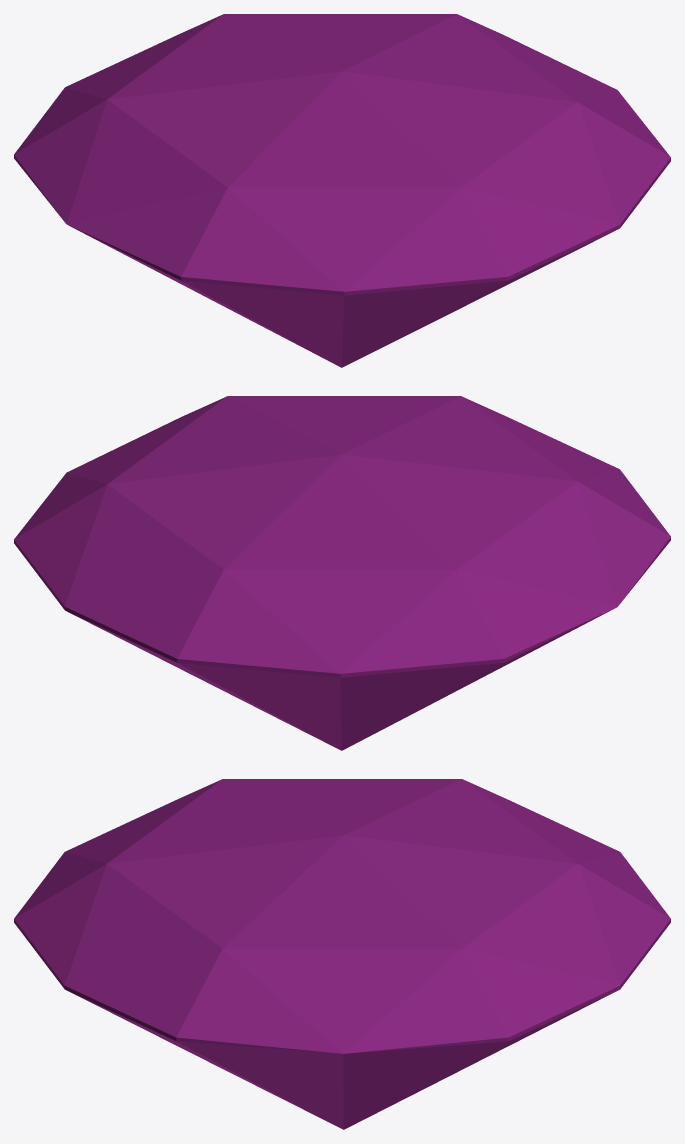
The model's file is Gem008.fbx.
The picture shows the model from 3 angles, top to bottom: view 1: azimuth 30°, elevation 25°; view 2: azimuth 150°, elevation 25°; view 3: azimuth 270°, elevation 25°; orthographic projection.
Visible parts, largest first — view 1: Gem008; view 2: Gem008; view 3: Gem008.
Part boxes in pixels (x1,y1,x2,y2): Gem008: [14, 14, 670, 367]; Gem008: [14, 396, 670, 750]; Gem008: [14, 779, 670, 1129].
Size of the model in its own units: 242 by 124 by 251.
